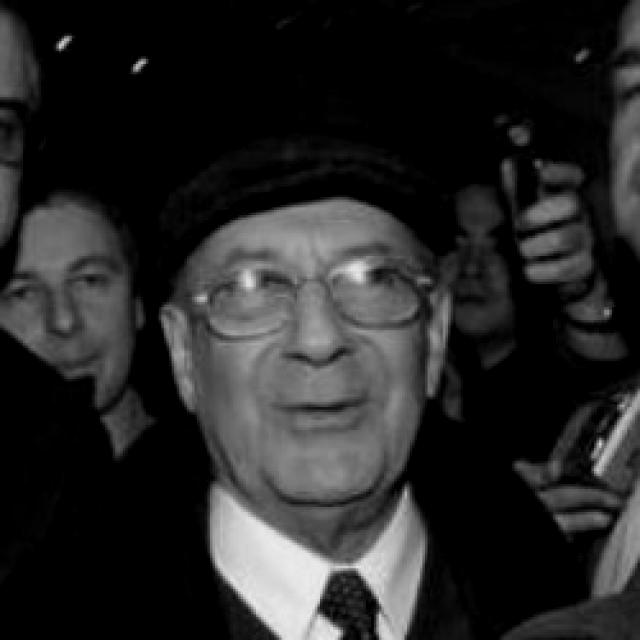real: (192, 190, 440, 518), (0, 172, 169, 430), (426, 156, 546, 346), (207, 238, 394, 325), (3, 268, 125, 323)
